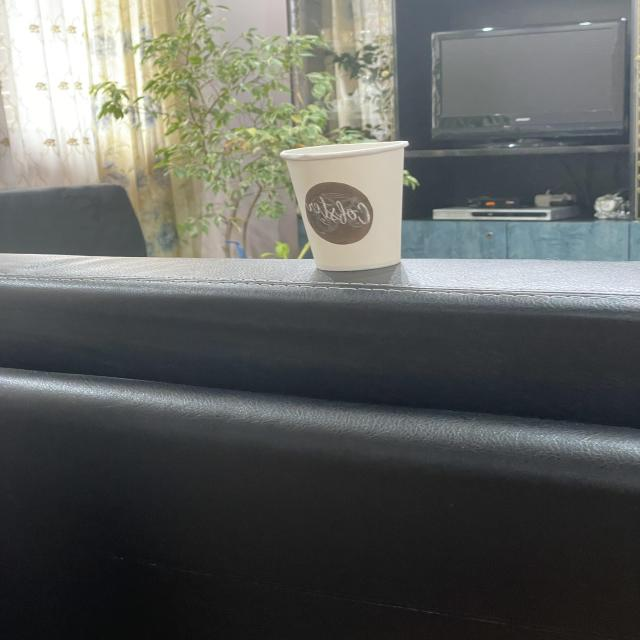medium: (271, 132, 417, 285)
